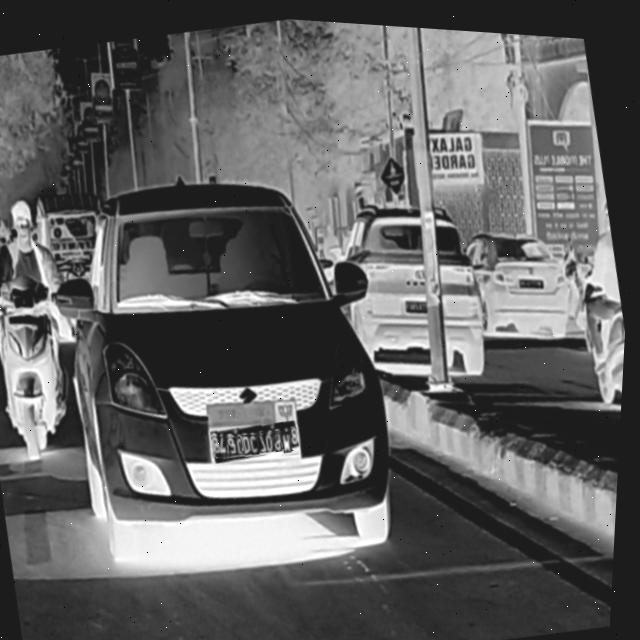0: (269, 430, 280, 449), (238, 432, 248, 451)
4: (222, 433, 233, 452)
6: (230, 433, 242, 451)
7: (262, 430, 273, 449)
8: (215, 433, 226, 452)
C: (253, 430, 266, 452)
D: (246, 430, 258, 451)
IND: (292, 423, 303, 441)
Indian_registered: (215, 417, 304, 457)
M: (285, 427, 298, 449)
P: (277, 427, 289, 448)
